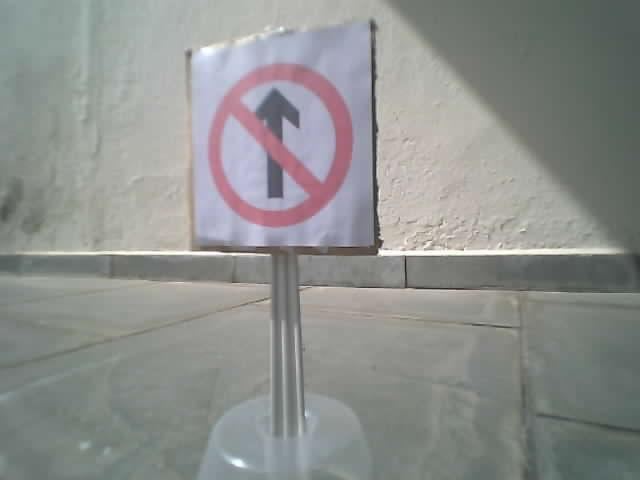R-3_sentido-proibido: (208, 62, 352, 227)
